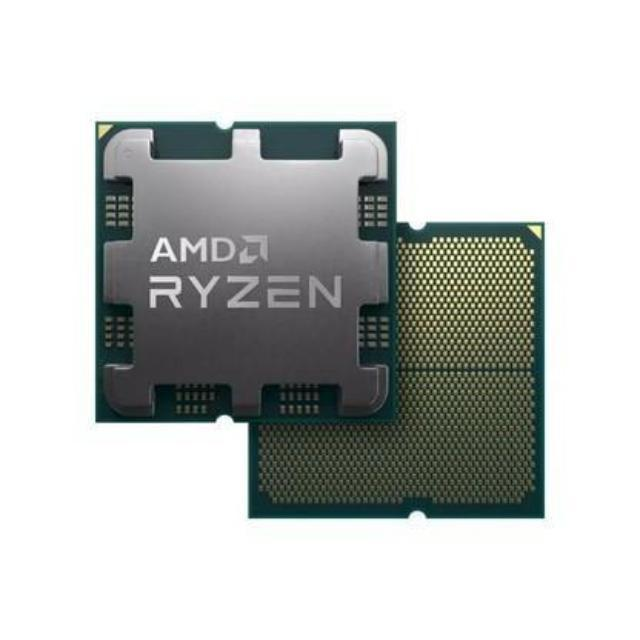CPU: (241, 220, 548, 518), (94, 128, 392, 420)
